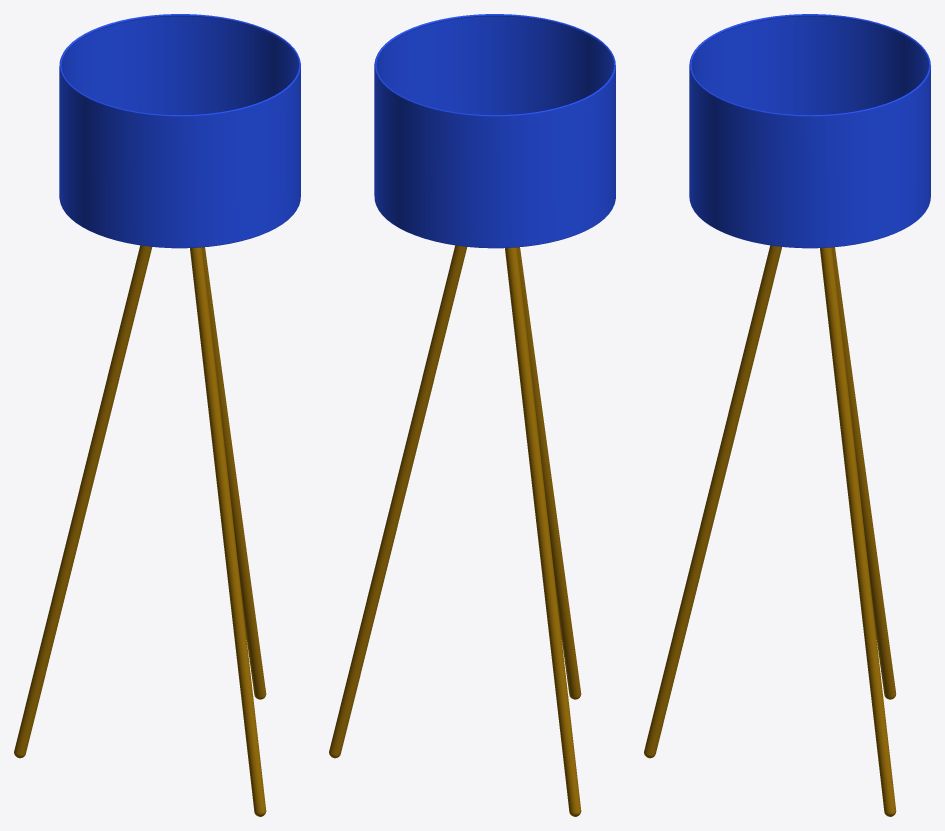
Rendered from lamp_torsher_ikea_2.fbx.
3 renders of one model, left to right at view 1: azimuth 30°, elevation 25°; view 2: azimuth 150°, elevation 25°; view 3: azimuth 270°, elevation 25°, orthographic.
Bounding box in the file's own units: 581 × 1537 × 576.
